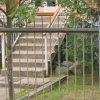stairs: (6, 32, 52, 76)
